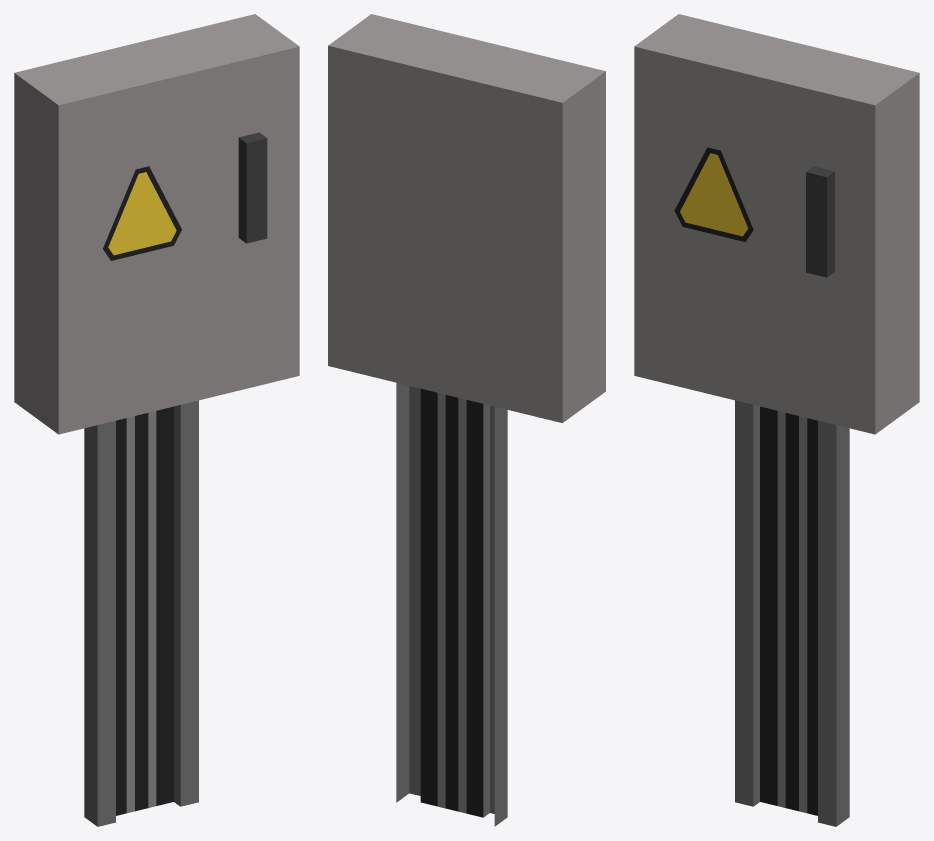
File: Wirebox.fbx
3 views of the same model, side by side, from view 1: azimuth 30°, elevation 25°; view 2: azimuth 150°, elevation 25°; view 3: azimuth 330°, elevation 25° (orthographic). The views are drawn at different scales.
Visible parts, largest first — view 1: WIresbox; view 2: WIresbox; view 3: WIresbox.
Part boxes in pixels (bbox=[...]): WIresbox: bbox=[14, 14, 299, 826]; WIresbox: bbox=[328, 14, 605, 826]; WIresbox: bbox=[634, 14, 919, 826].
Bounding box in the file's own units: 101 × 304 × 37.97.
